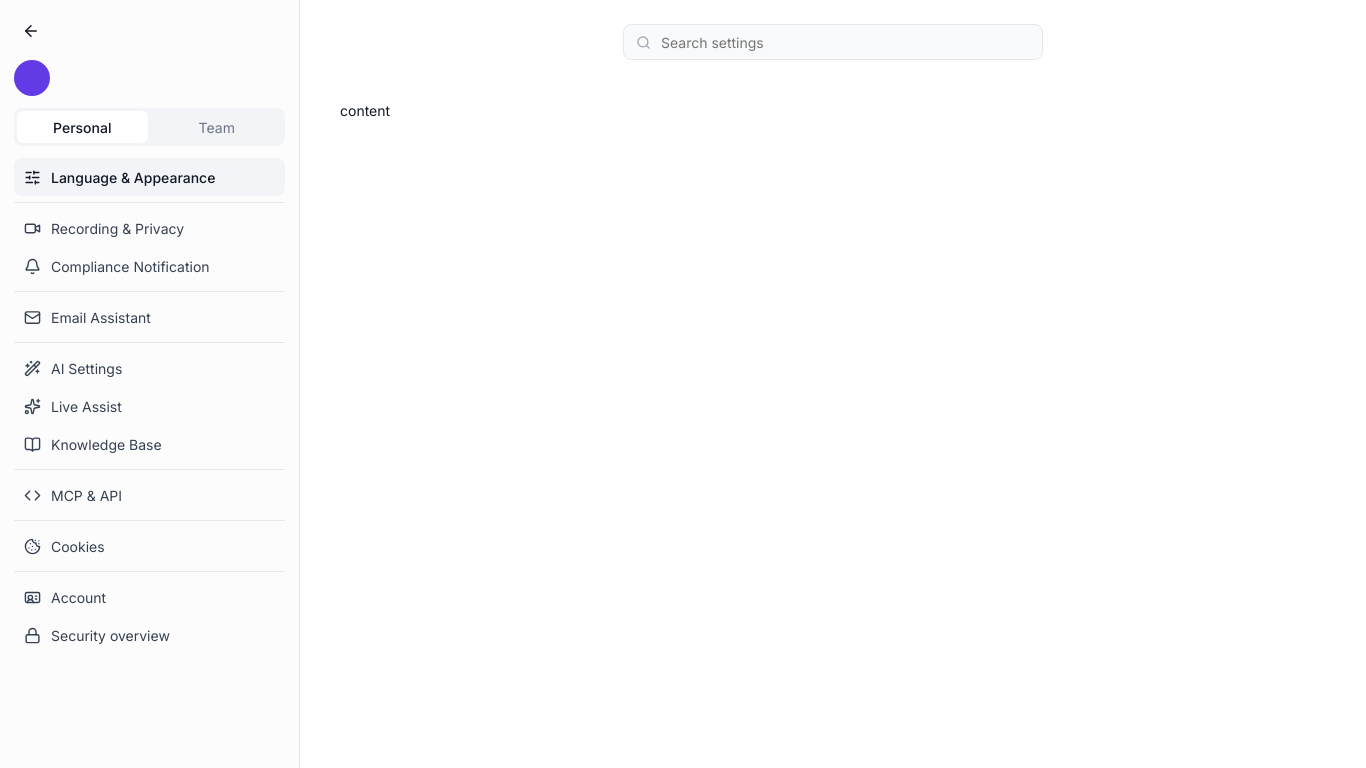
Settings layout › filters sections as you type and says when nothing matches
In the field labelled "Search settings": (844, 42) [659, 30, 1030, 54], type "  KNOW "
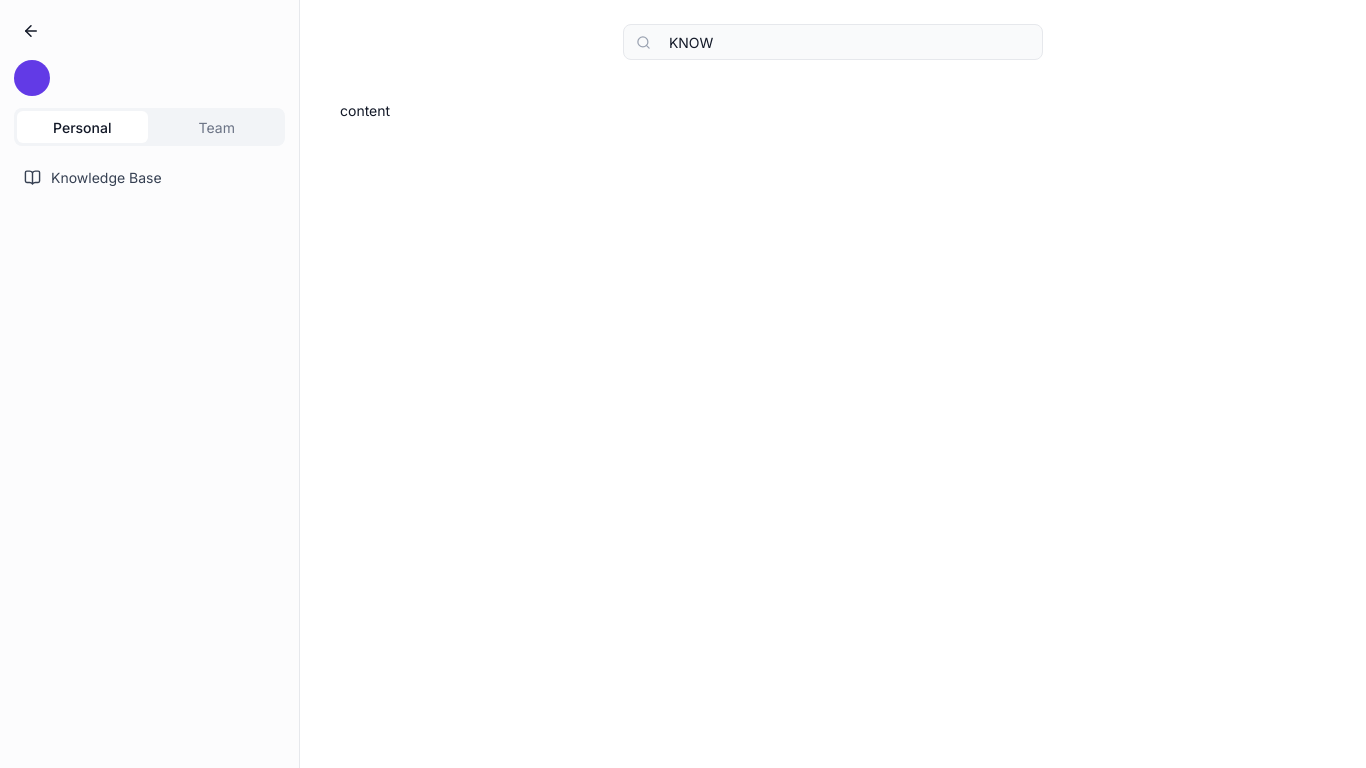
Replace the text in the field named "Search settings" with "zzz": (844, 42) [659, 30, 1030, 54]
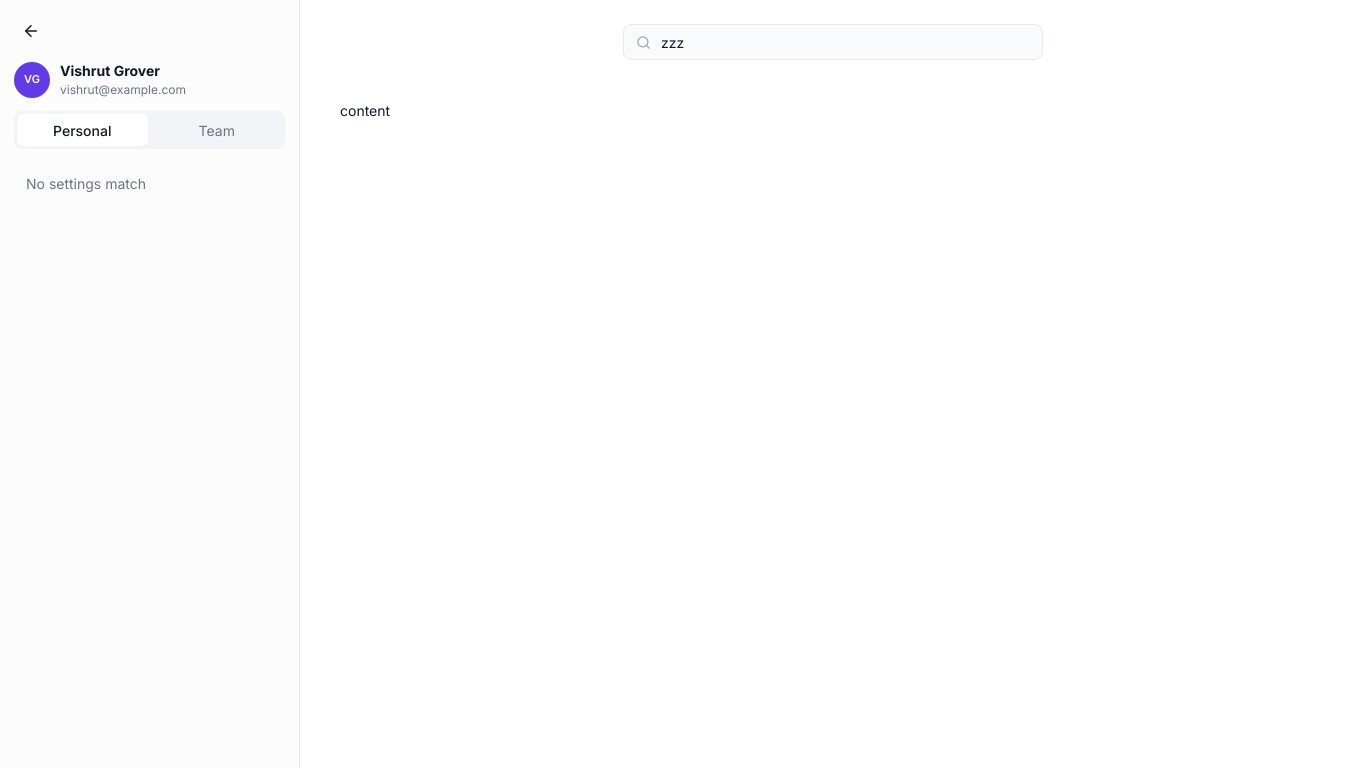
Check: the text "No settings match" is shown, box [26, 175, 146, 192]
